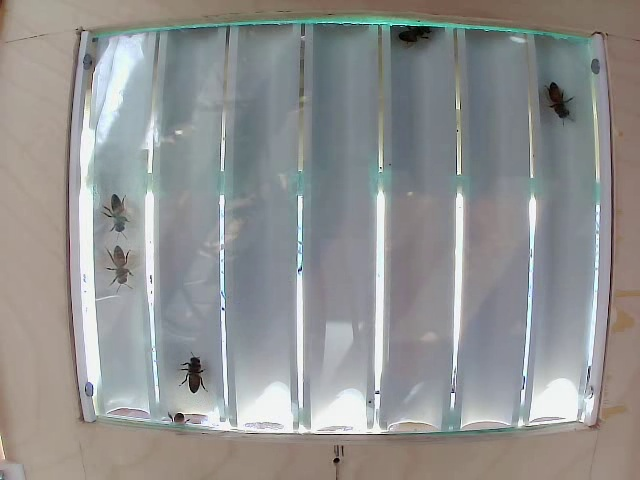bee: (101, 188, 152, 251), (101, 248, 139, 301), (180, 348, 217, 396), (544, 80, 566, 126)
